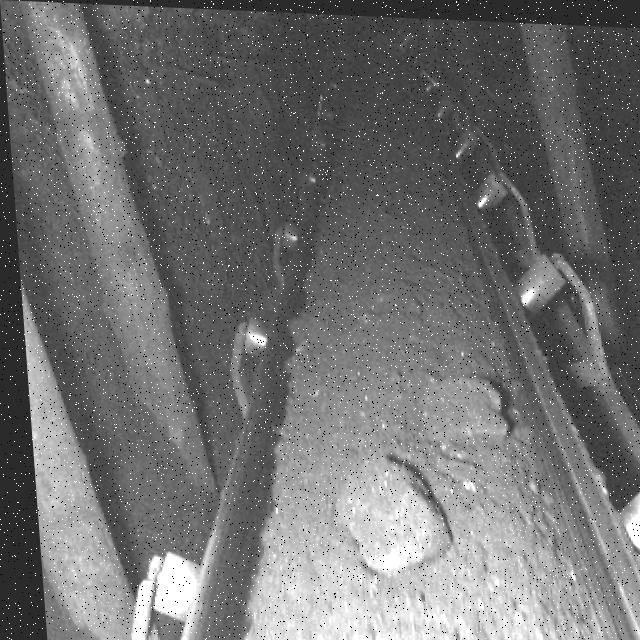large_sized_coal: (317, 449, 445, 574), (408, 369, 503, 438)
